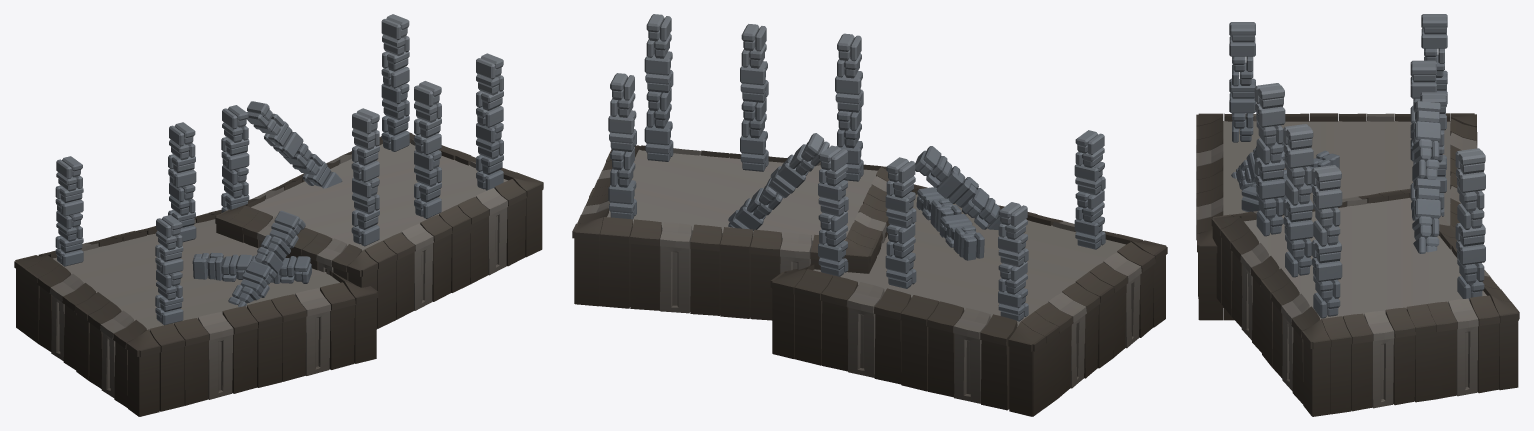
File: monumentoFinal.fbx
The picture shows the model from 3 angles, left to right: view 1: azimuth 30°, elevation 25°; view 2: azimuth 150°, elevation 25°; view 3: azimuth 270°, elevation 25°; orthographic projection. The views are drawn at different scales.
Parts seen in each view (by area): view 1: columnas7_group58_pCube1388; view 2: columnas7_group58_pCube1388; view 3: columnas7_group58_pCube1388.
Part boxes in pixels (x1,y1,x2,y2): columnas7_group58_pCube1388: (14,14,543,416); columnas7_group58_pCube1388: (572,14,1167,416); columnas7_group58_pCube1388: (1196,14,1519,416).
Size of the model in its own units: 1796 by 814 by 975.
